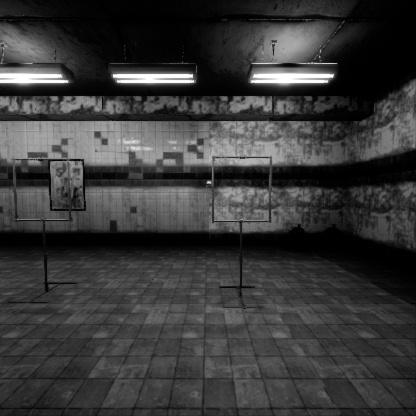gate: (212, 192, 277, 260), (13, 194, 77, 258)
